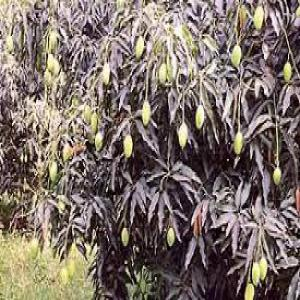Tree: (0, 3, 299, 297)
